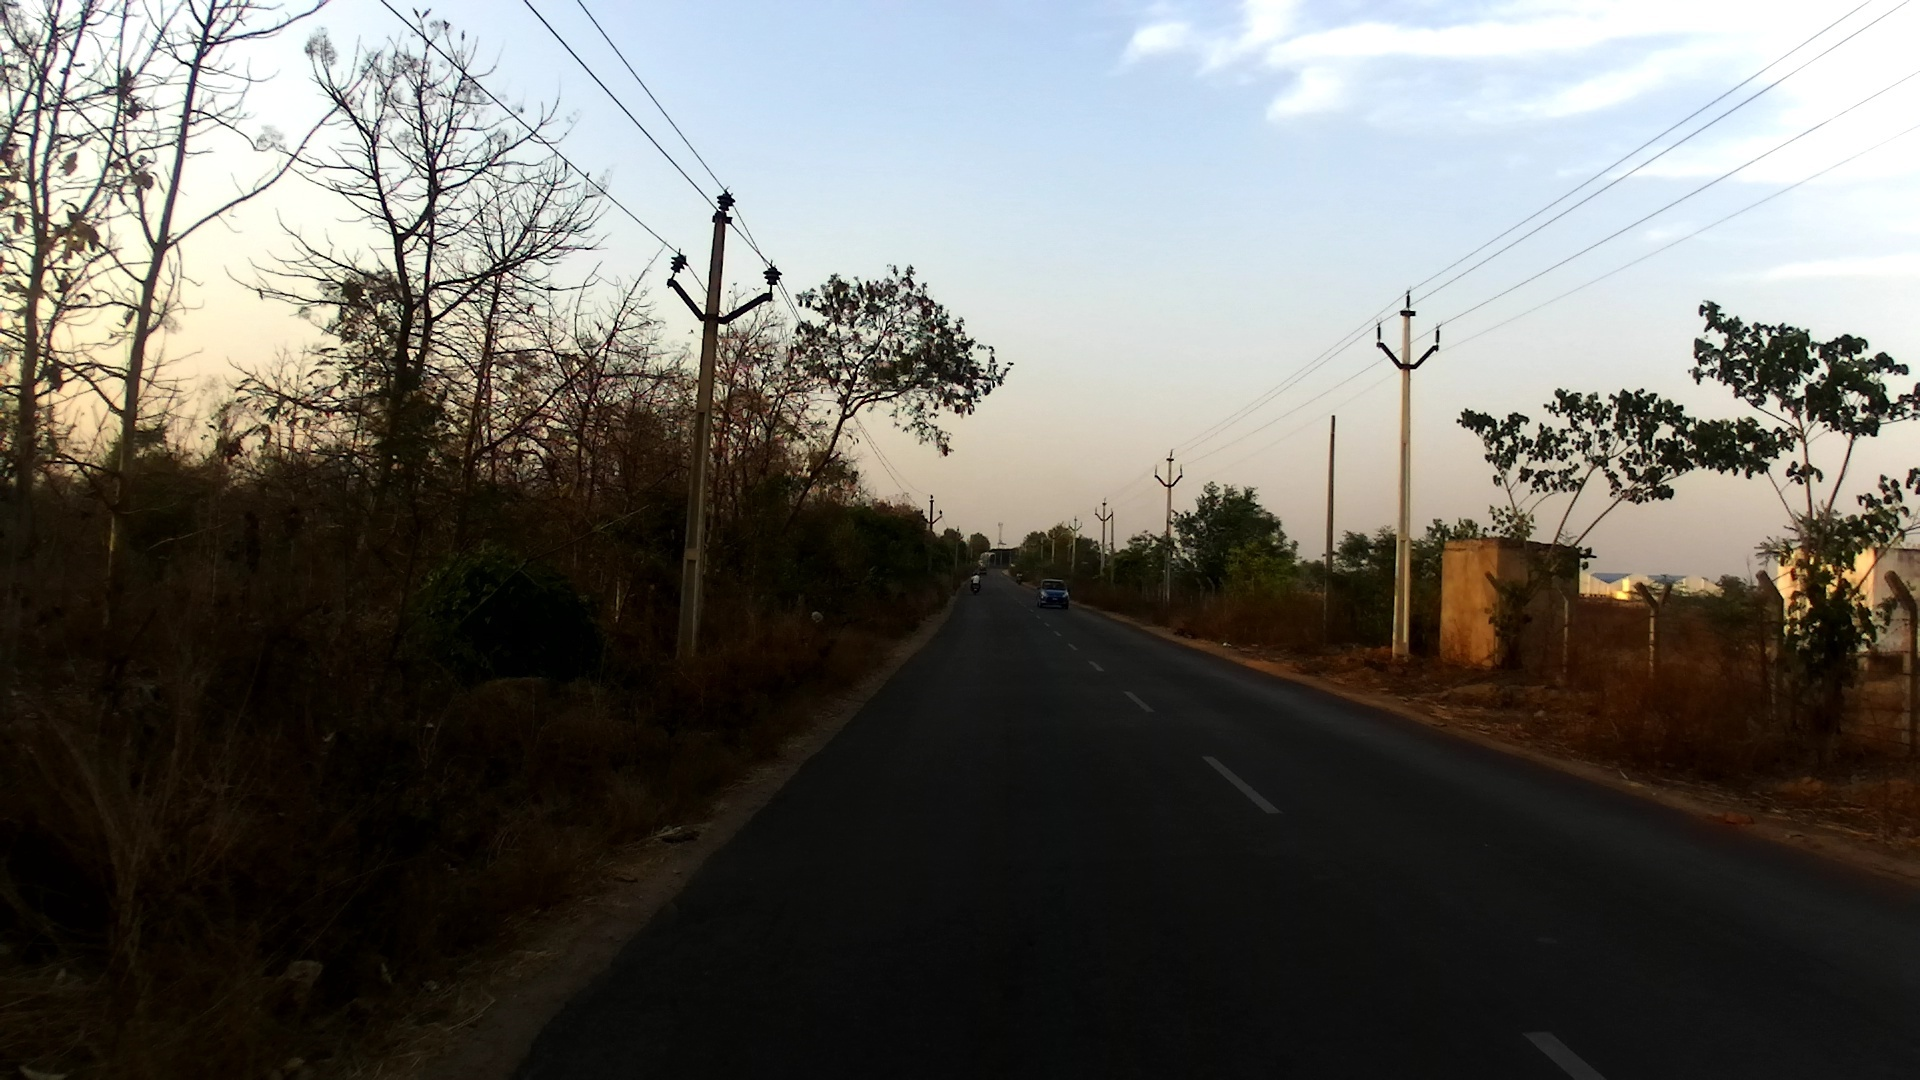autorickshaw: (975, 562, 990, 576)
car: (1036, 578, 1071, 610)
motorcycle: (971, 576, 983, 596), (1015, 576, 1022, 585)
rider: (969, 571, 984, 591), (1014, 568, 1025, 585)
